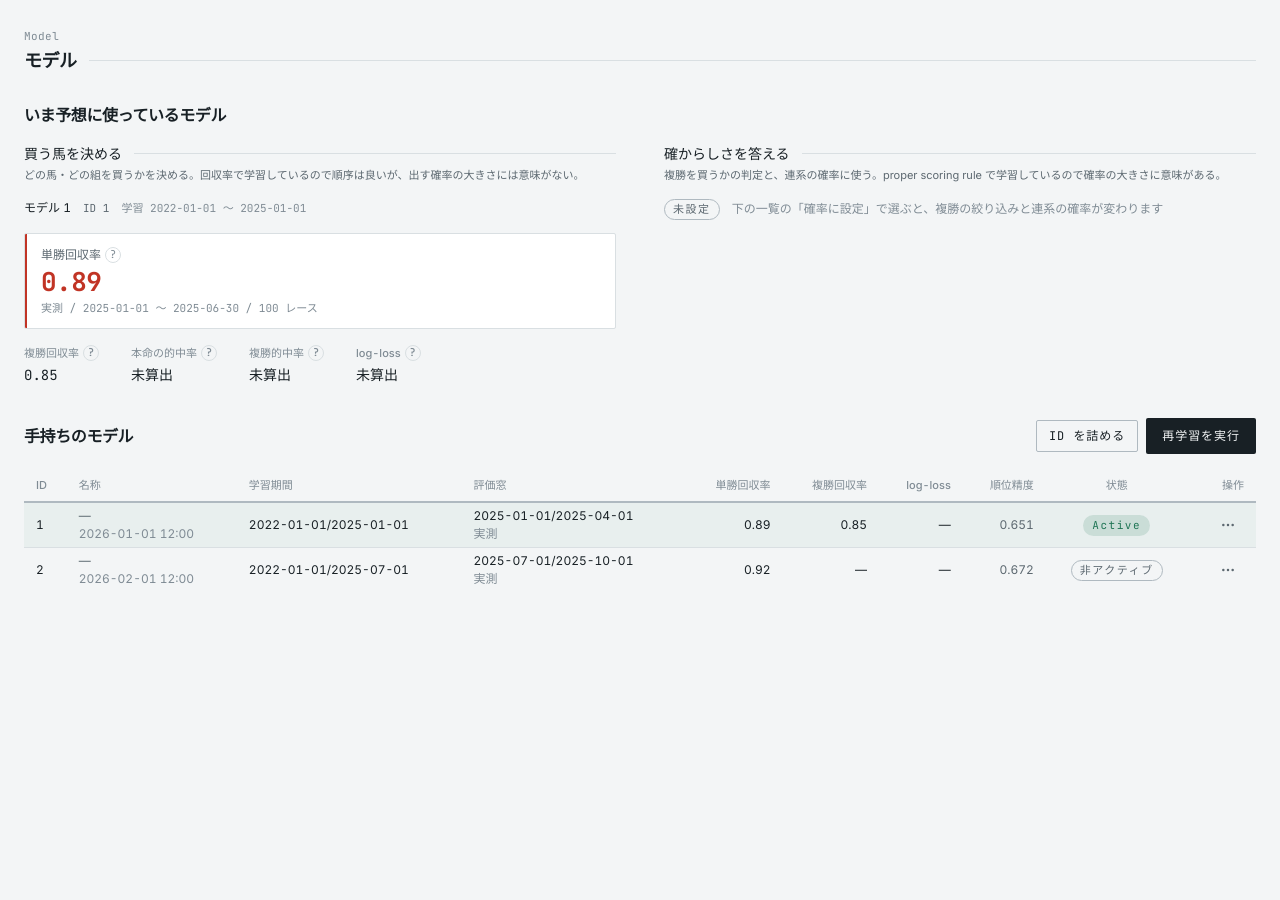
Scenario: Models — モデル管理 › Active な行では Activate を選べない
Click the button named "の操作" at (1228, 525), box [1212,509,1244,541]
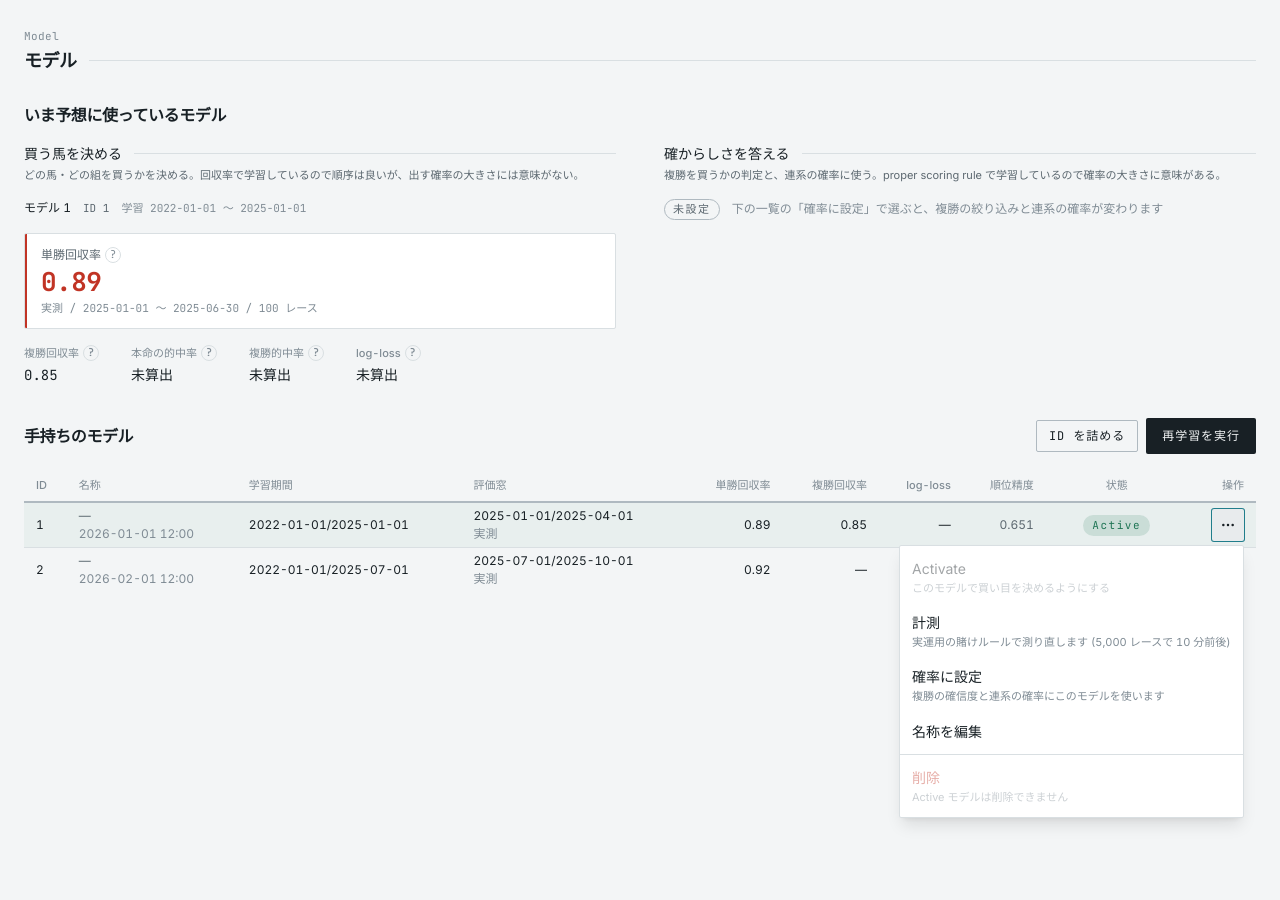
Expected: the menu item "Activate このモデルで買い目を決めるようにする" is disabled, [900,550,1243,604]
Expected: the menu item "削除 Active モデルは削除できません" is disabled, [900,758,1243,813]
